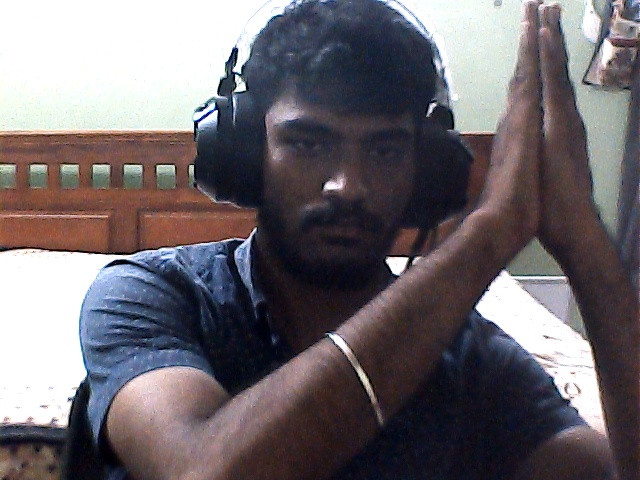Sign: (497, 4, 593, 264)
